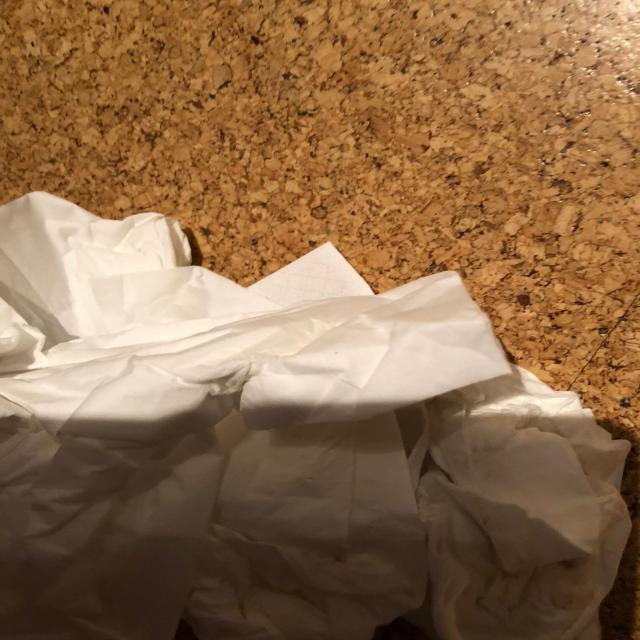kitchen paper: (0, 186, 525, 444), (0, 447, 438, 640), (421, 362, 640, 640)
